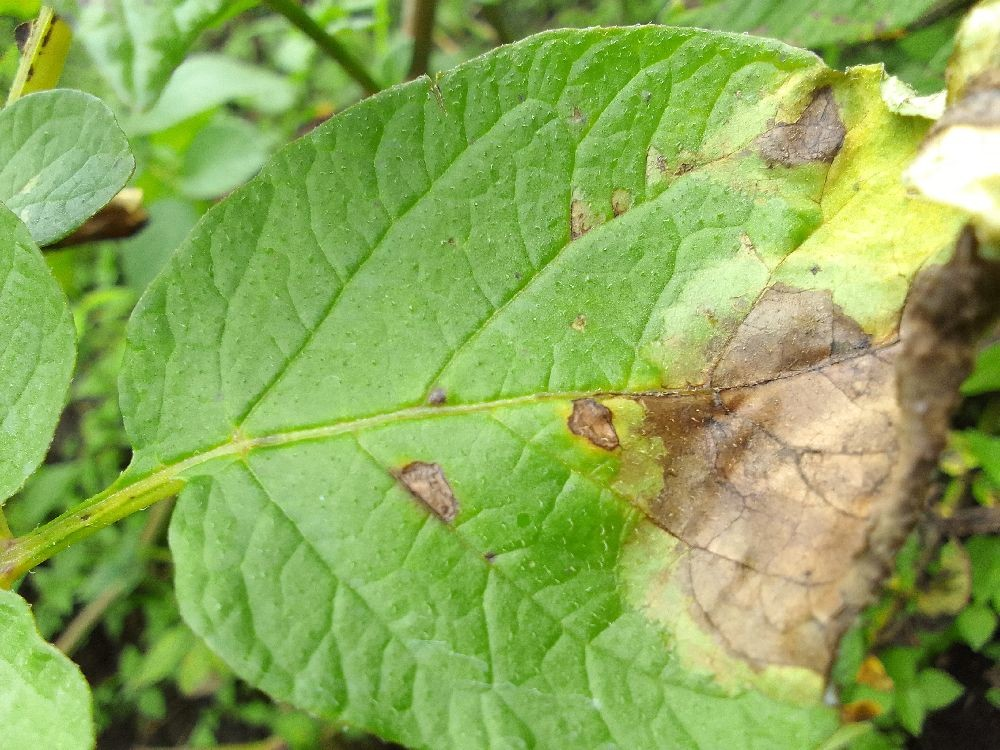late_blight: (548, 199, 999, 742), (370, 0, 622, 105), (71, 658, 315, 750), (747, 68, 862, 178)
